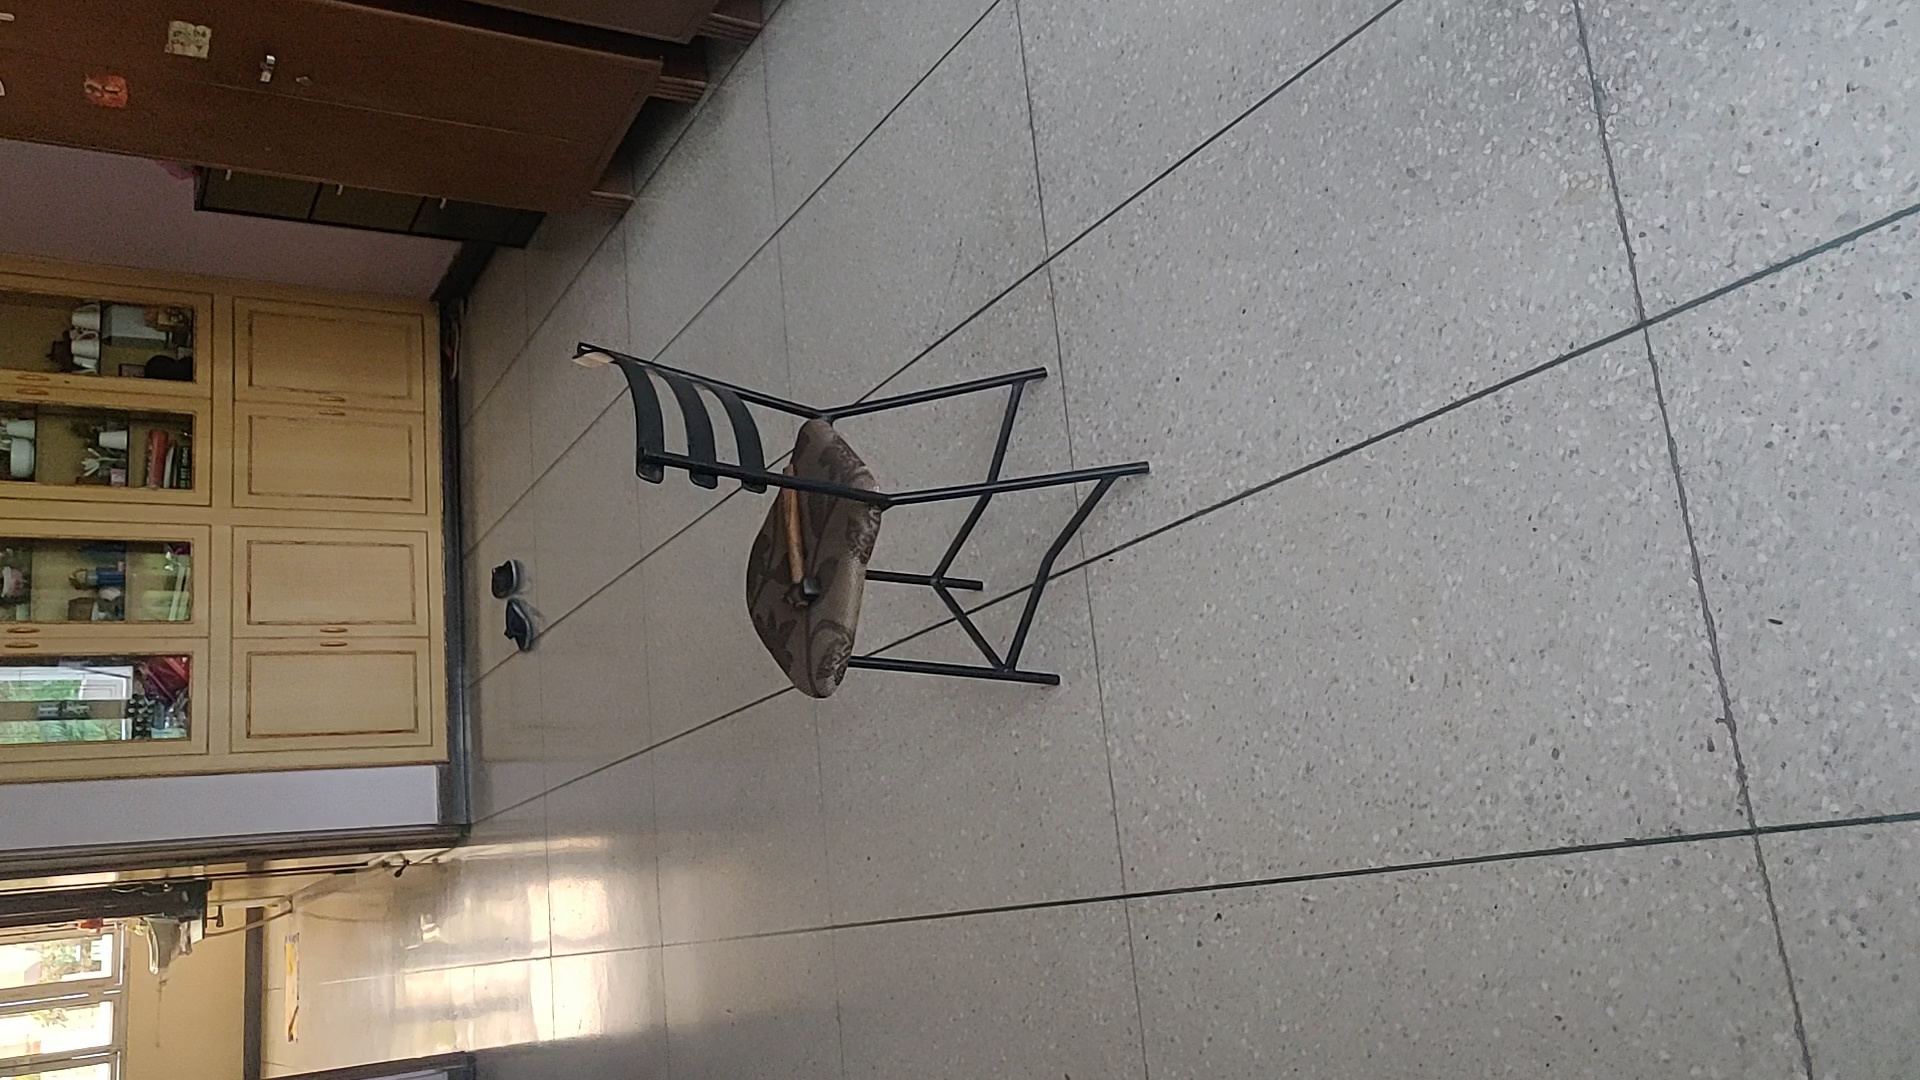hammer: (781, 465, 818, 613)
